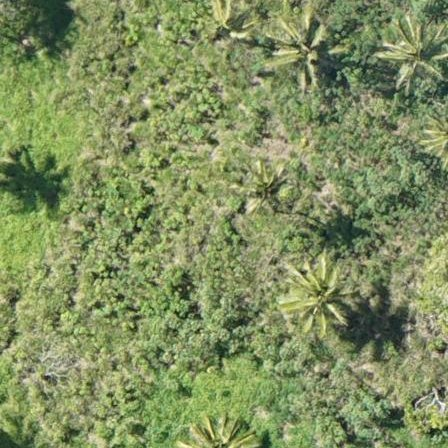palm_tree: (374, 7, 448, 95), (278, 251, 355, 332), (274, 12, 335, 77)
